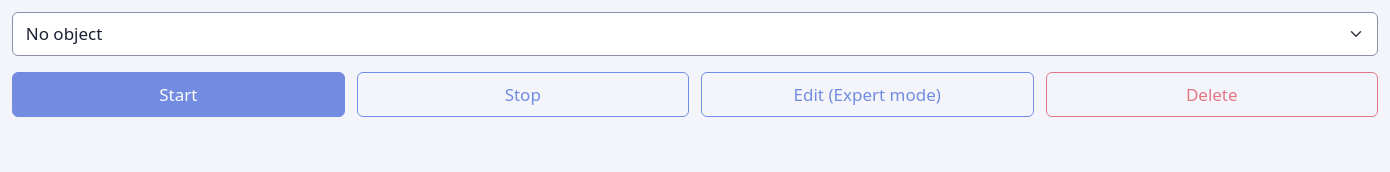
Test: stops the selected instance and reloads the dashboard
Select "Name: second" in the dropdown at (695, 34), box [12,12,1378,56]
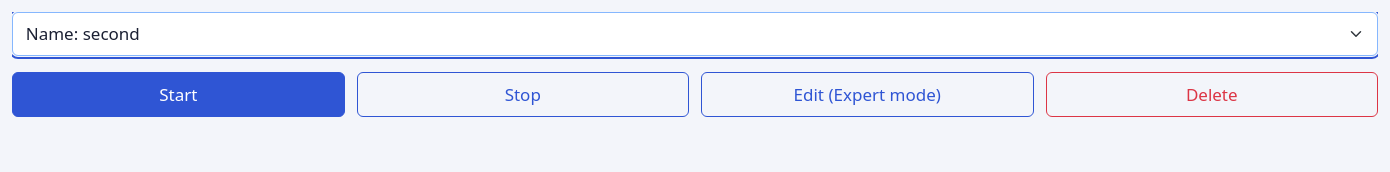
Click the button "Stop" at (523, 94), box [356,72,689,116]
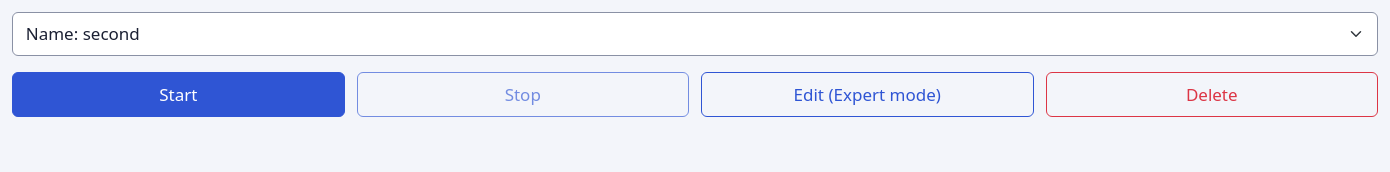
Expected: the button "Stop" is disabled, [356,72,689,116]
